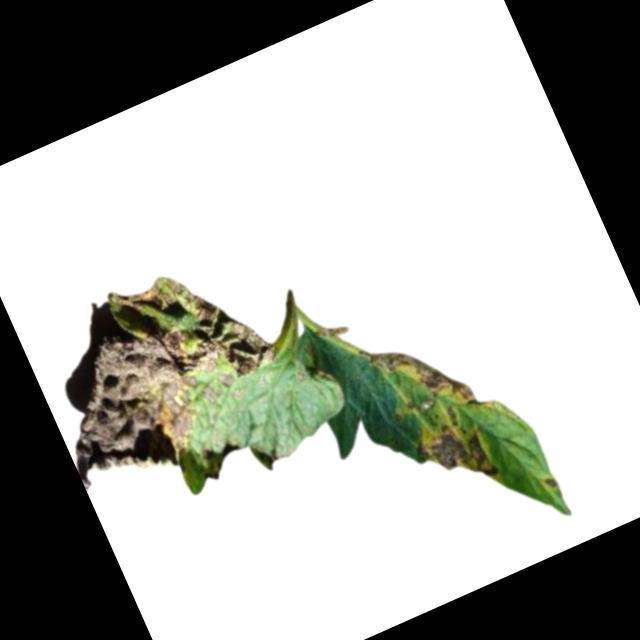Early_blight: (16, 238, 308, 505), (361, 317, 482, 437), (407, 404, 502, 501), (542, 474, 559, 490)
